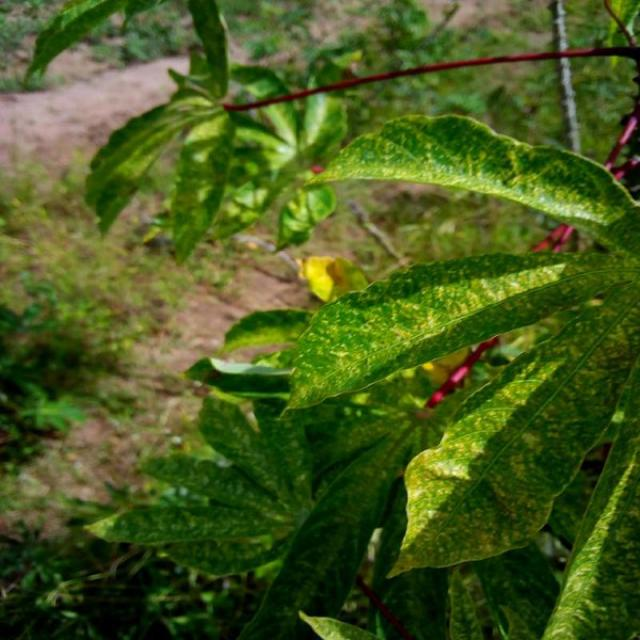cassava leaf: (384, 278, 638, 580), (279, 247, 630, 418), (301, 111, 638, 250)
